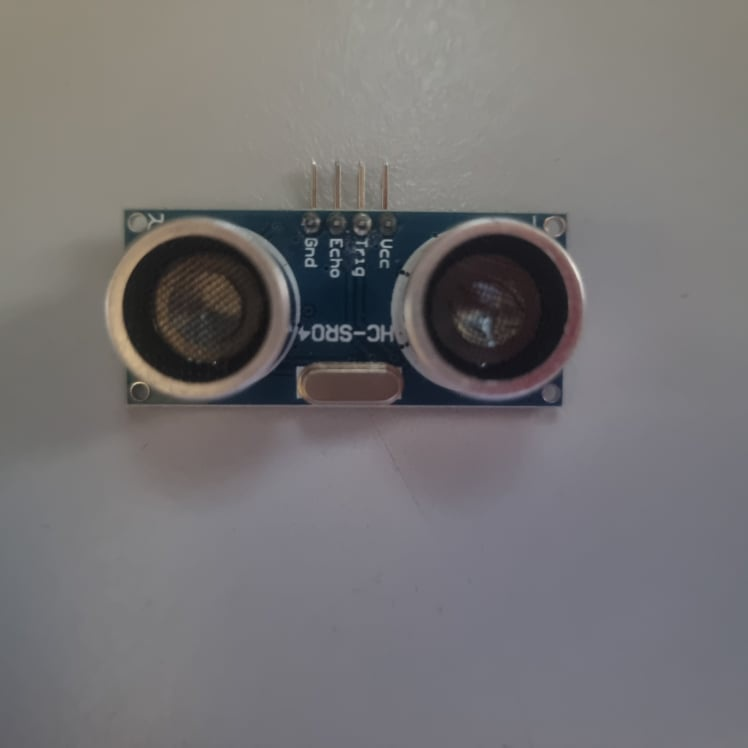SENSOR: (103, 158, 591, 413)
